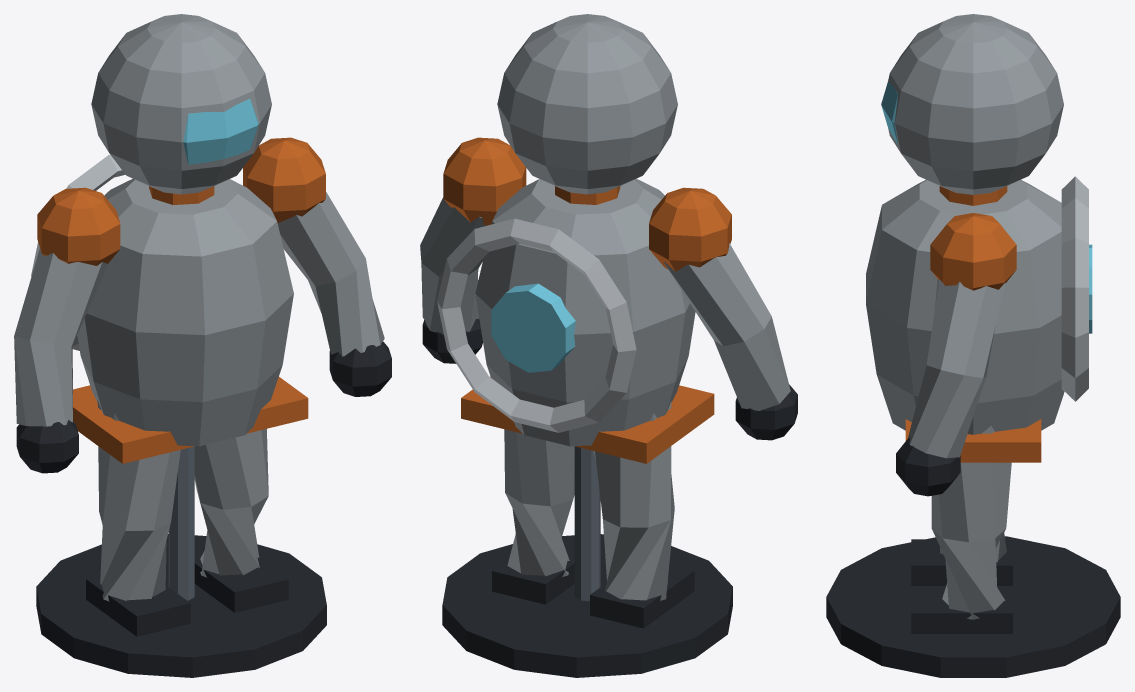
The model's file is stabilizer-suit.glb.
3 views of the same model, side by side, from view 1: azimuth 30°, elevation 25°; view 2: azimuth 150°, elevation 25°; view 3: azimuth 270°, elevation 25° (orthographic).
Parts seen in each view (by area): view 1: m; view 2: m; view 3: m.
Part boxes in pixels (x1=…): m: x1=14, y1=14, x2=391, y2=677; m: x1=420, y1=14, x2=797, y2=677; m: x1=826, y1=14, x2=1120, y2=677.
Bounding box in the file's own units: 0.3641 × 0.56 × 0.251.
